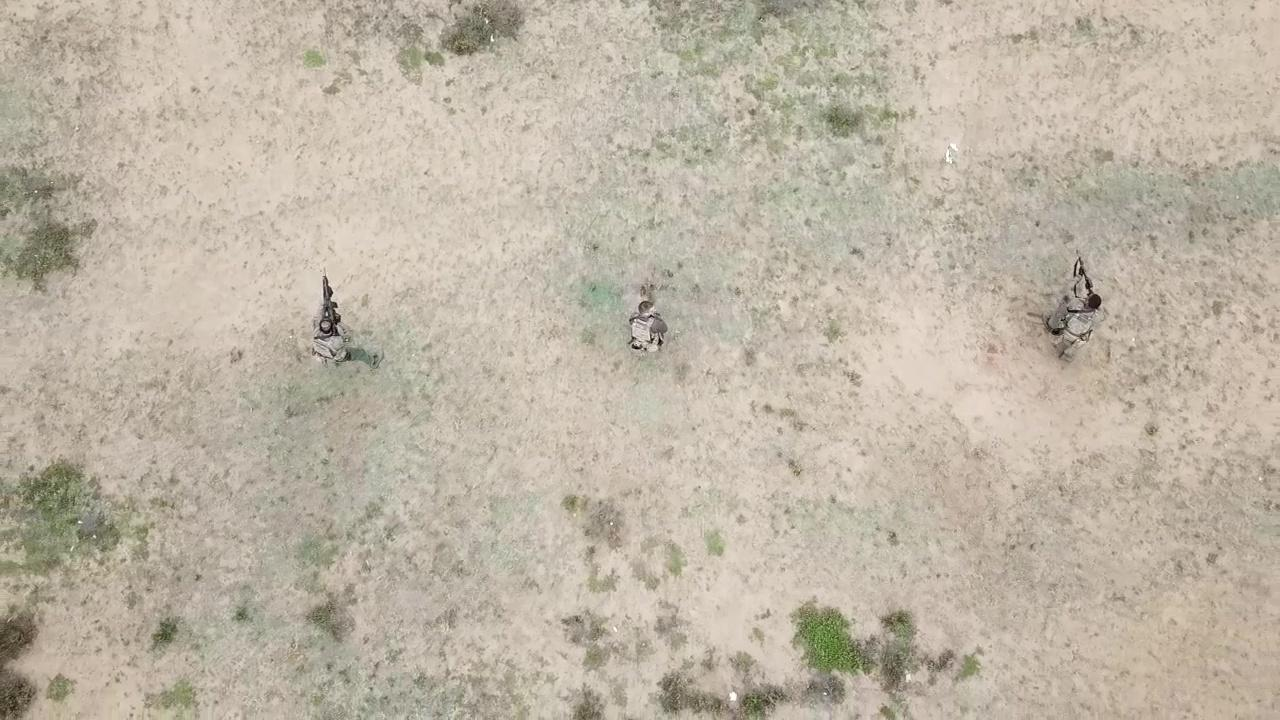Soldier: (306, 259, 388, 377), (1032, 252, 1107, 368), (624, 288, 672, 362)
